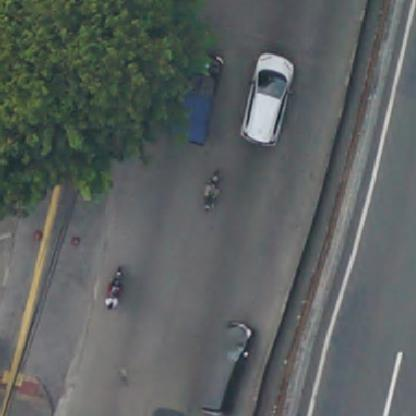Car: (176, 54, 220, 150), (208, 323, 254, 411), (245, 53, 285, 147)
Motorcycle: (104, 266, 125, 308), (202, 172, 220, 206)
